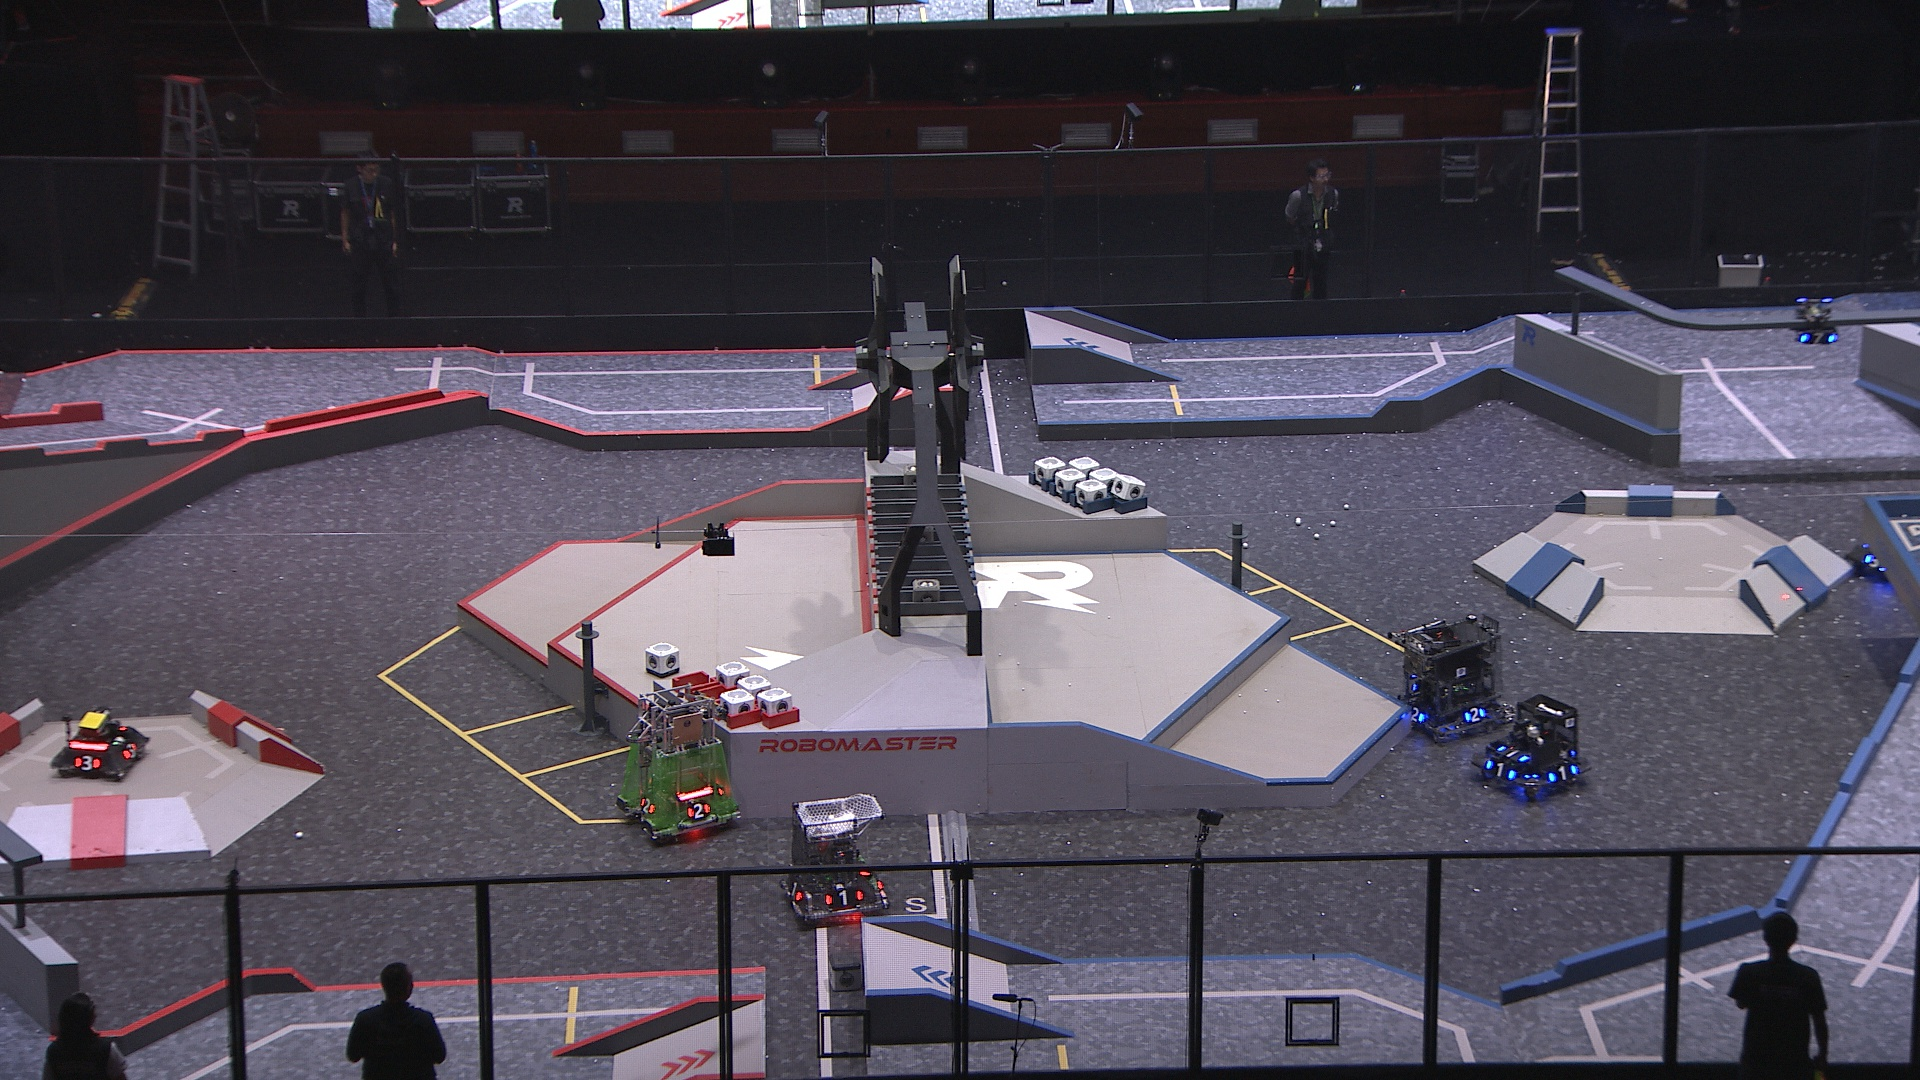armor: (825, 889, 865, 907), (1797, 330, 1837, 348), (1495, 745, 1532, 765), (1545, 764, 1580, 785), (1485, 760, 1518, 781), (73, 752, 102, 771), (785, 878, 807, 902), (1863, 553, 1888, 574), (684, 802, 713, 818), (123, 741, 138, 764), (1410, 707, 1427, 727), (1465, 707, 1486, 723), (641, 796, 657, 816)
car: (615, 684, 740, 844), (781, 790, 894, 928), (1394, 616, 1514, 746), (1468, 688, 1596, 806), (50, 707, 150, 783), (1842, 516, 1920, 588)
watcher: (1793, 295, 1840, 349)
